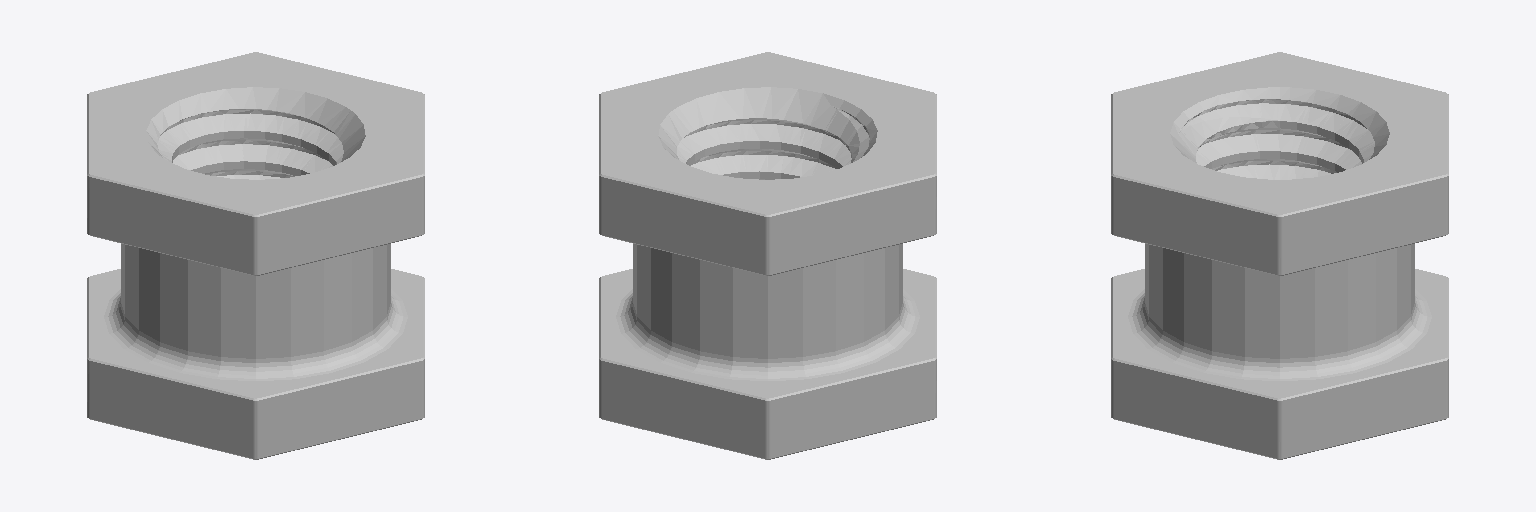
File: T200_05_T200STEP_T200STEPSTEP_T200_NOZZLESTEPSTEP_T200STEP1_04_T200STEP1.obj
3 views of the same model, side by side, from view 1: azimuth 30°, elevation 25°; view 2: azimuth 150°, elevation 25°; view 3: azimuth 270°, elevation 25° (orthographic).
Size of the model in its own units: 0.0115 by 0.008 by 0.01.